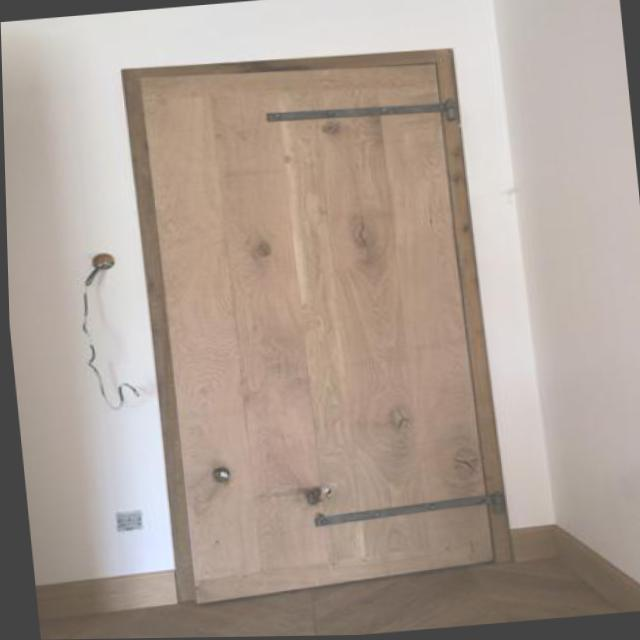close: (104, 24, 521, 620)
